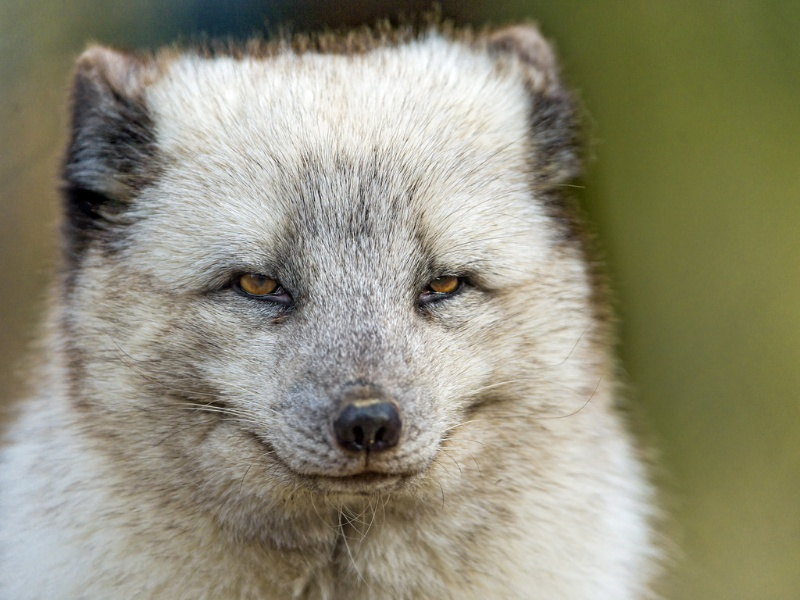fox: (3, 13, 656, 596)
